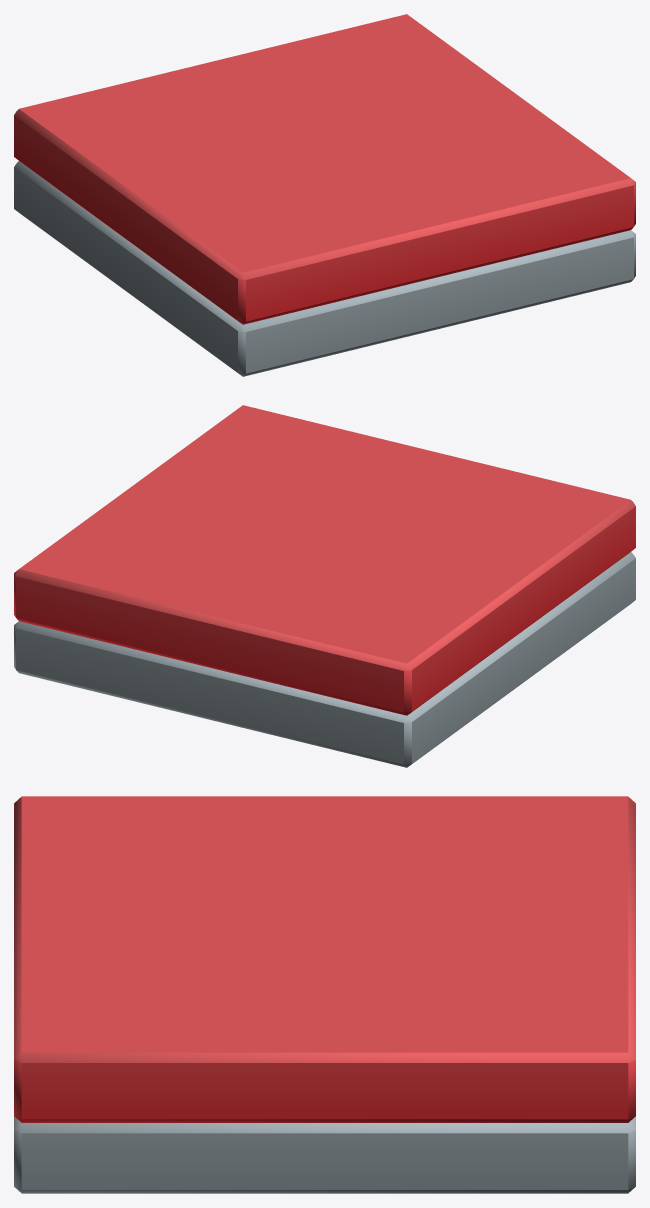
The model's file is platform-4x4x1-red.glb.
3 renders of one model, top to bottom at view 1: azimuth 30°, elevation 25°; view 2: azimuth 150°, elevation 25°; view 3: azimuth 270°, elevation 25°, orthographic. The views are drawn at different scales.
Parts seen in each view (by area): view 1: platform_4x4x1_red; view 2: platform_4x4x1_red; view 3: platform_4x4x1_red.
Part boxes in pixels (x1,y1,x2,y2): platform_4x4x1_red: [14, 14, 635, 376]; platform_4x4x1_red: [14, 405, 635, 767]; platform_4x4x1_red: [14, 796, 635, 1193].
Size of the model in its own units: 4 by 1 by 4.
Materials: 1 (1 with a texture image).
